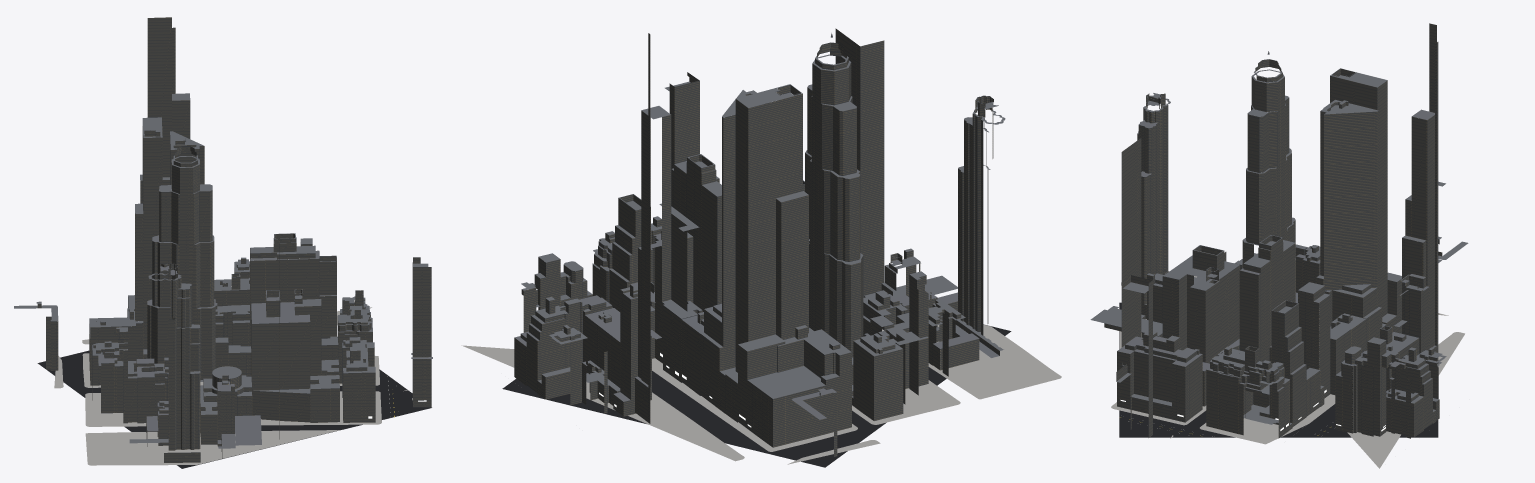
3 renders of one model, left to right at view 1: azimuth 30°, elevation 25°; view 2: azimuth 150°, elevation 25°; view 3: azimuth 270°, elevation 25°, orthographic. The views are drawn at different scales.
Visible parts, largest first — view 1: t5_2, detail; view 2: t5_2, detail; view 3: t5_2, detail.
Part boxes in pixels (left/top/right/bottom): t5_2: left=14, top=17, right=432, bottom=468; detail: left=54, top=307, right=410, bottom=465; t5_2: left=502, top=28, right=1011, bottom=467; detail: left=461, top=324, right=1061, bottom=464; t5_2: left=1090, top=23, right=1468, bottom=438; detail: left=1111, top=276, right=1464, bottom=468.
Bounding box in the file's own units: 374 × 305 × 337.
Materials: 5 (2 with a texture image).
